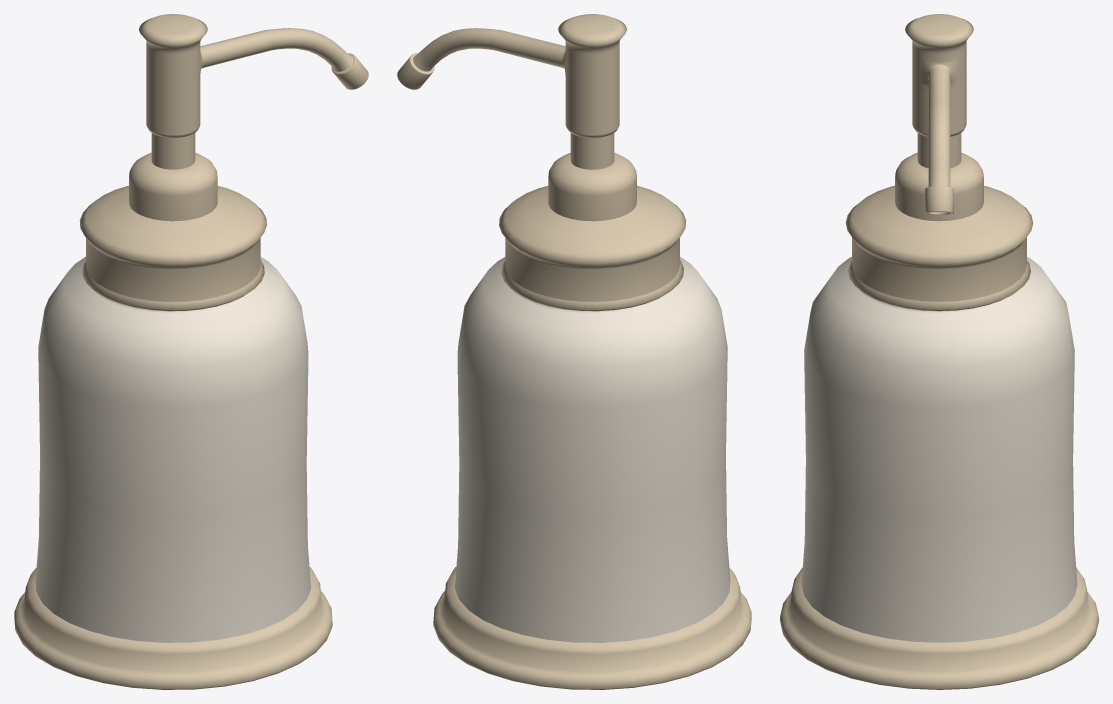
File: dish-soap-matte.glb
3 renders of one model, left to right at view 1: azimuth 30°, elevation 25°; view 2: azimuth 150°, elevation 25°; view 3: azimuth 270°, elevation 25°, orthographic.
Parts seen in each view (by area): view 1: Circle.001, Circle.002, Circle, Circle.005, Circle.003, Circle.004; view 2: Circle.001, Circle.002, Circle, Circle.005, Circle.003, Circle.004; view 3: Circle.001, Circle.002, Circle, Circle.005, Circle.003, Circle.004.
Part boxes in pixels (left/top/right/bottom): Circle.001: left=35, top=256, right=311, bottom=642; Circle.002: left=79, top=185, right=266, bottom=311; Circle: left=14, top=567, right=332, bottom=689; Circle.005: left=139, top=14, right=368, bottom=137; Circle.003: left=129, top=152, right=217, bottom=221; Circle.004: left=151, top=133, right=195, bottom=169; Circle.001: left=454, top=256, right=730, bottom=642; Circle.002: left=499, top=185, right=686, bottom=311; Circle: left=433, top=567, right=751, bottom=689; Circle.005: left=397, top=14, right=626, bottom=137; Circle.003: left=548, top=152, right=636, bottom=221; Circle.004: left=570, top=133, right=614, bottom=169; Circle.001: left=801, top=257, right=1077, bottom=642; Circle.002: left=845, top=185, right=1033, bottom=311; Circle: left=780, top=568, right=1098, bottom=689; Circle.005: left=905, top=14, right=973, bottom=215; Circle.003: left=895, top=152, right=983, bottom=221; Circle.004: left=917, top=133, right=961, bottom=168.
Bounding box in the file's own units: 0.1161 × 0.201 × 0.0968.
